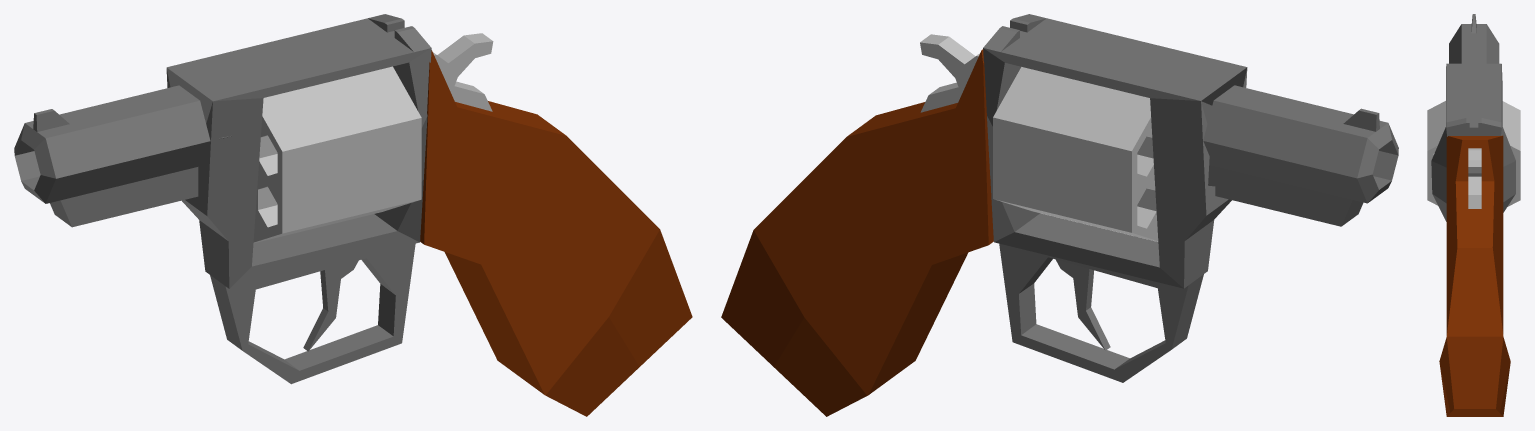
Rendered from revolver.FBX.
3 renders of one model, left to right at view 1: azimuth 30°, elevation 25°; view 2: azimuth 150°, elevation 25°; view 3: azimuth 270°, elevation 25°, orthographic. The views are drawn at different scales.
Parts seen in each view (by area): view 1: Grip_Cube.001, Receiver_Cube, Cylinder_Cube.003, Barrel_Cylinder.001, Hammer_Cube.002; view 2: Grip_Cube.001, Receiver_Cube, Cylinder_Cube.003, Barrel_Cylinder.001, Hammer_Cube.002; view 3: Grip_Cube.001, Receiver_Cube, Cylinder_Cube.003, Barrel_Cylinder.001, Hammer_Cube.002.
Part boxes in pixels (left/top/right/bottom): Grip_Cube.001: left=420, top=50, right=692, bottom=416; Receiver_Cube: left=166, top=14, right=431, bottom=384; Cylinder_Cube.003: left=253, top=66, right=421, bottom=243; Barrel_Cylinder.001: left=14, top=85, right=233, bottom=227; Hammer_Cube.002: left=433, top=33, right=493, bottom=111; Grip_Cube.001: left=721, top=49, right=993, bottom=416; Receiver_Cube: left=983, top=14, right=1247, bottom=382; Cylinder_Cube.003: left=993, top=67, right=1158, bottom=241; Barrel_Cylinder.001: left=1201, top=85, right=1398, bottom=226; Hammer_Cube.002: left=920, top=34, right=979, bottom=112; Grip_Cube.001: left=1439, top=135, right=1510, bottom=416; Receiver_Cube: left=1431, top=63, right=1515, bottom=221; Cylinder_Cube.003: left=1427, top=101, right=1520, bottom=206; Barrel_Cylinder.001: left=1449, top=14, right=1499, bottom=63; Hammer_Cube.002: left=1468, top=148, right=1481, bottom=208.
Bounding box in the file's own units: 0.3455 × 0.2113 × 0.0722.
